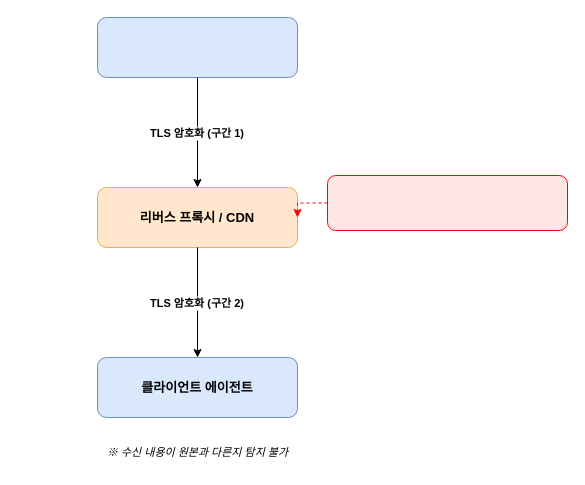
Some shapes in this 585 by 485 pixel diagram are drawn without their labels. Here are the shapes that lost their labels. From the top down, the box of each, then its label:
(96, 16, 298, 78): 에이전트 서버
(326, 174, 568, 230): ⚠ TLS 종료 후 재수립 이 구간에서 Agent Card 위변조 가능
